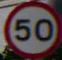Speed limit: (4, 1, 56, 52)
